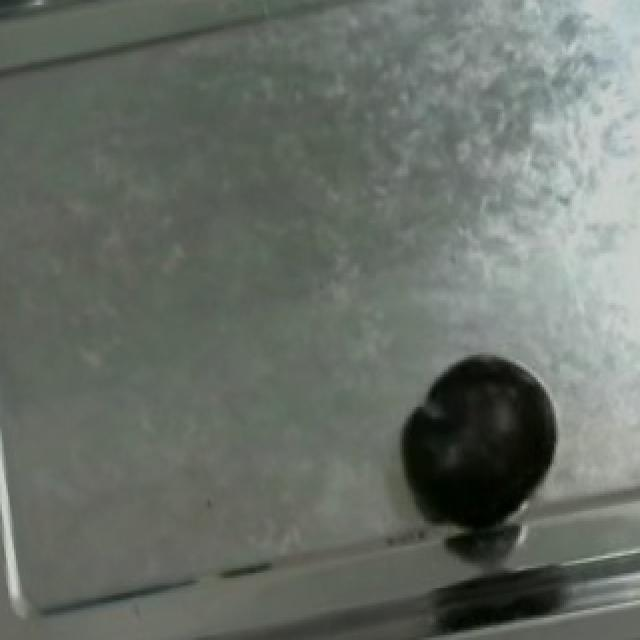Fruit: (386, 342, 570, 554)
